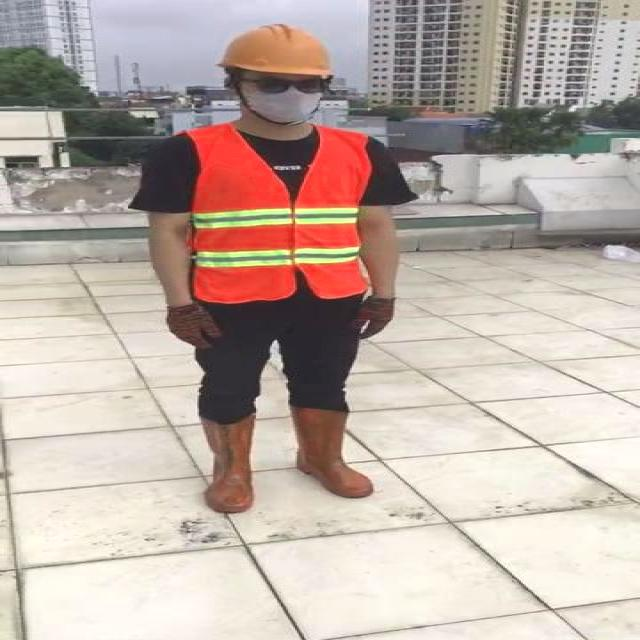boots: (286, 406, 374, 499), (201, 412, 258, 514)
face_mask: (240, 72, 332, 128)
glasses: (237, 74, 337, 98)
hand_glove: (166, 307, 220, 349), (352, 298, 398, 339)
head_helmet: (222, 21, 340, 76)
person: (133, 16, 414, 520)
vest: (188, 127, 372, 304)
